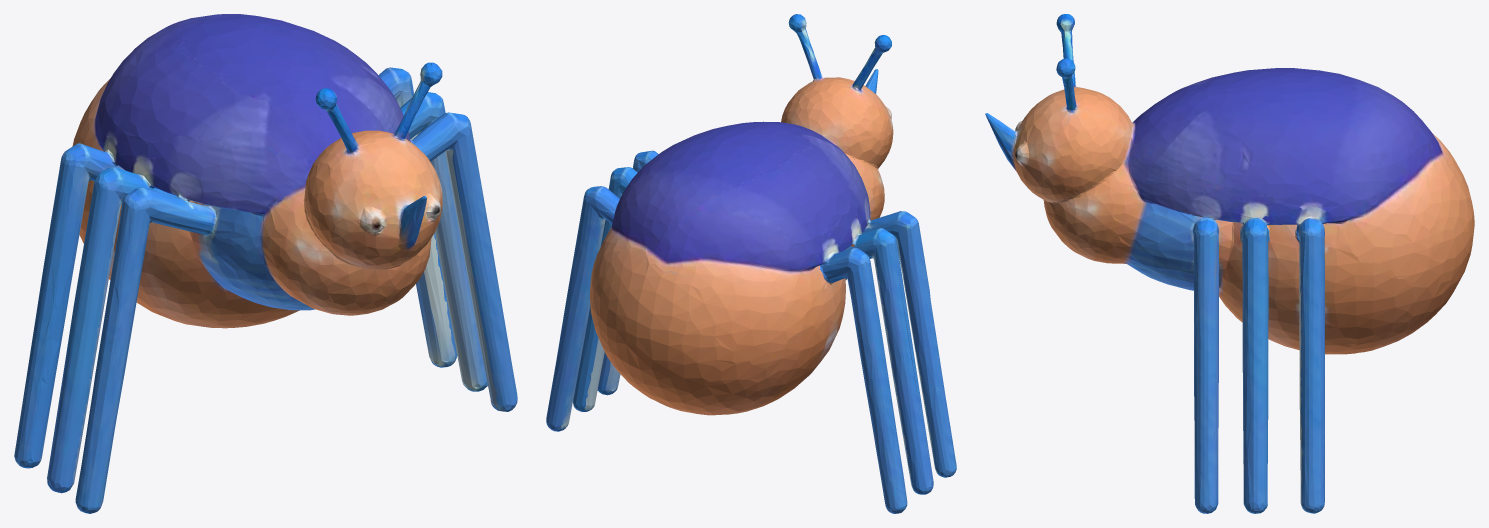
Rendered from creature-026.lod.glb.
The picture shows the model from 3 angles, left to right: view 1: azimuth 30°, elevation 25°; view 2: azimuth 150°, elevation 25°; view 3: azimuth 270°, elevation 25°; orthographic projection. The views are drawn at different scales.
Parts seen in each view (by area): view 1: tmpjy04m6k5.ply; view 2: tmpjy04m6k5.ply; view 3: tmpjy04m6k5.ply.
Part boxes in pixels (x1,y1,x2,y2): tmpjy04m6k5.ply: (14, 14, 517, 513); tmpjy04m6k5.ply: (546, 14, 956, 513); tmpjy04m6k5.ply: (985, 14, 1474, 513).
Size of the model in its own units: 1.42 by 1.37 by 1.56.
1 material, 1 textured.
